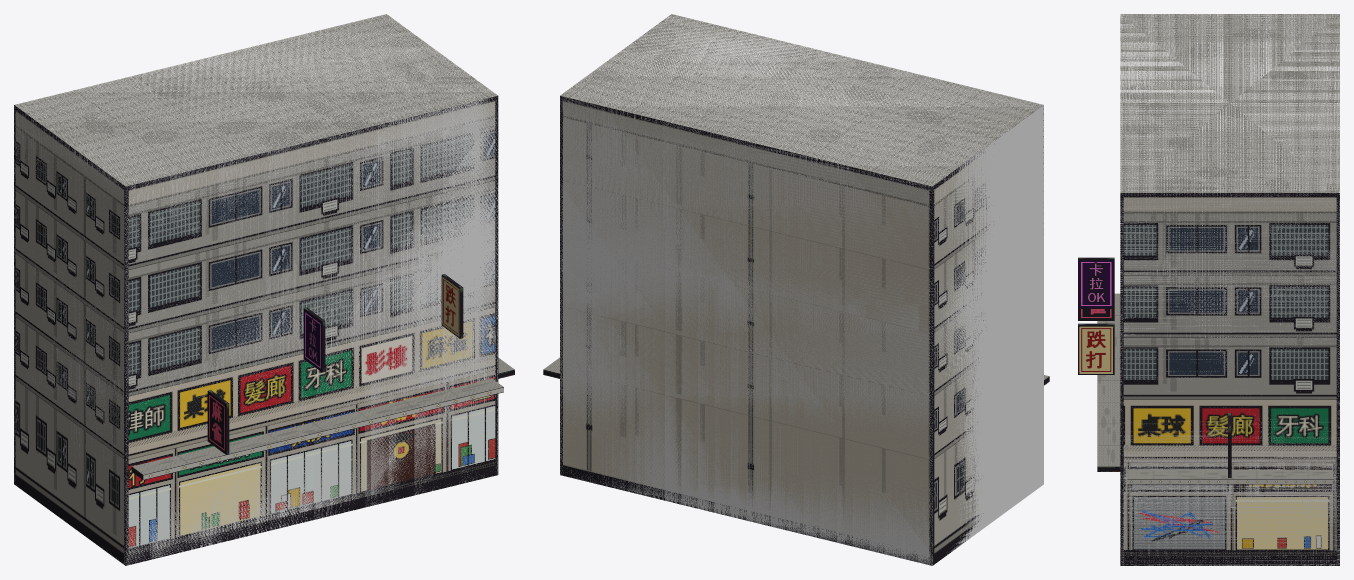
3 views of the same model, side by side, from view 1: azimuth 30°, elevation 25°; view 2: azimuth 150°, elevation 25°; view 3: azimuth 270°, elevation 25° (orthographic).
Visible parts, largest first — view 1: 19D-W13, COL_19D-W13_0; view 2: 19D-W13, COL_19D-W13_0; view 3: 19D-W13, COL_19D-W13_0.
Boxes of the visible parts, x1,y1,x2,y2 form: 19D-W13: (14, 14, 514, 565); COL_19D-W13_0: (14, 14, 498, 565); 19D-W13: (543, 14, 1049, 565); COL_19D-W13_0: (560, 14, 1043, 565); 19D-W13: (1078, 14, 1339, 565); COL_19D-W13_0: (1120, 14, 1339, 565).
Size of the model in its own units: 20.35 by 18 by 11.45.
1 material, 1 textured.
